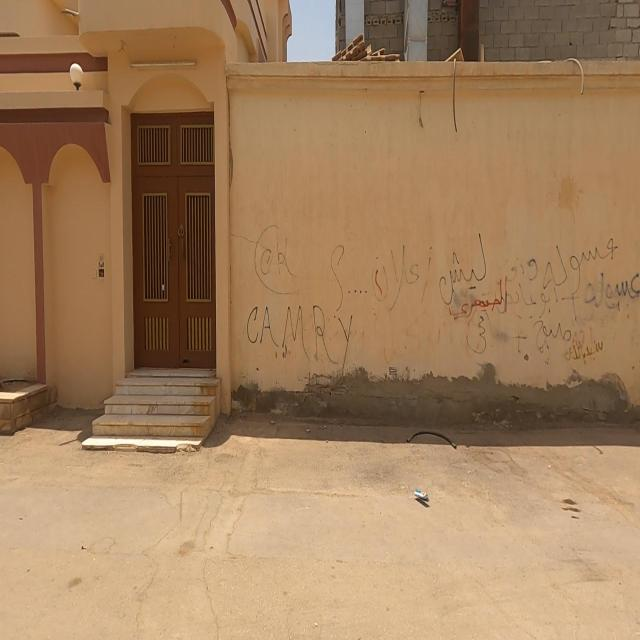Graffiti: (248, 225, 640, 364)
